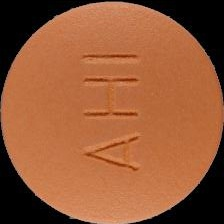16729-031: (0, 0, 224, 224)
